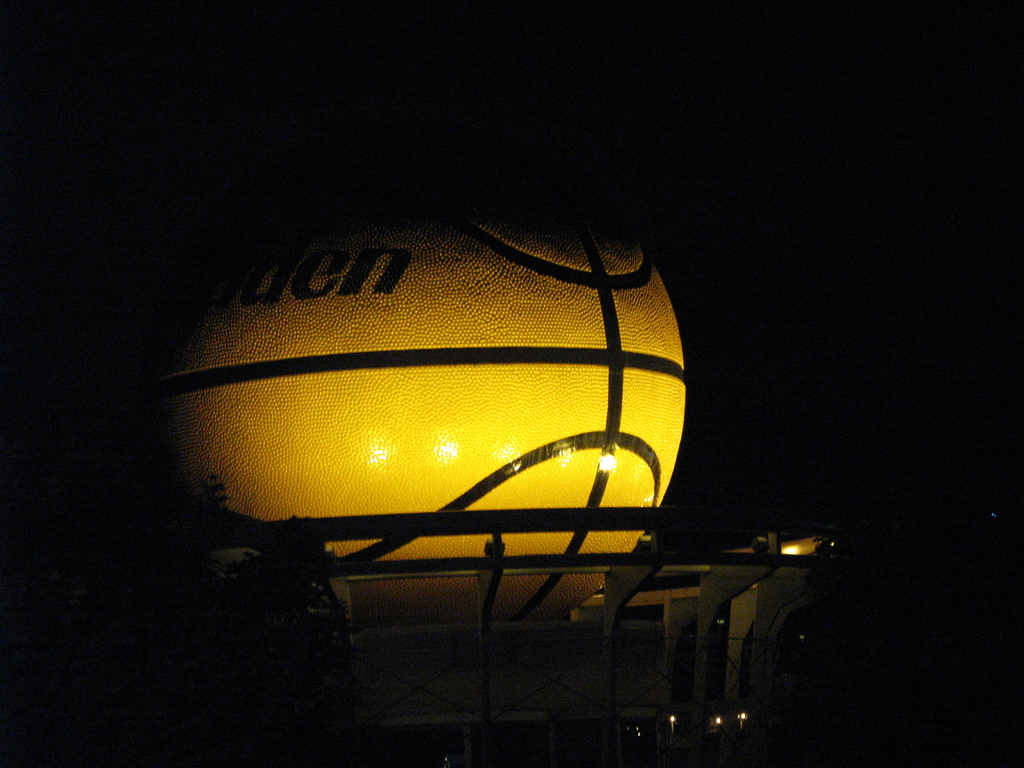Ball: (132, 213, 688, 621)
